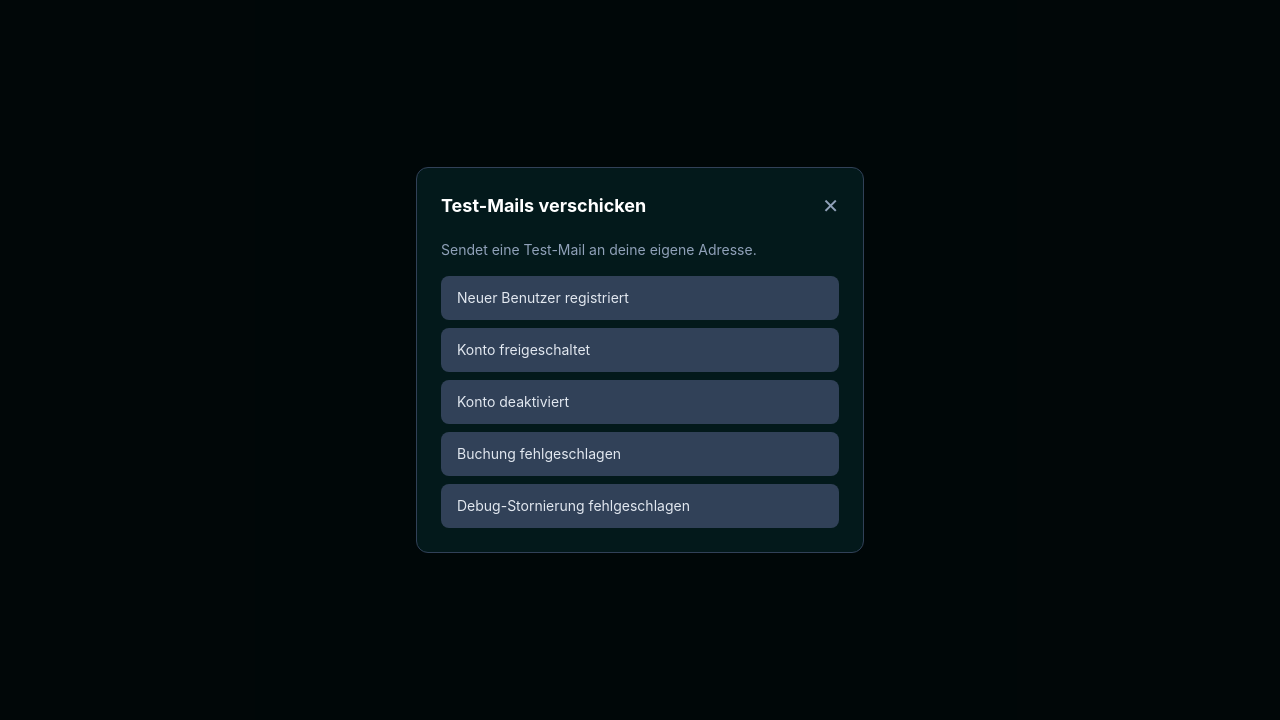
Test: TestEmailModal › shows success message after a successful send
Click the button "Neuer Benutzer registriert" at (543,298), box [441, 276, 839, 320]
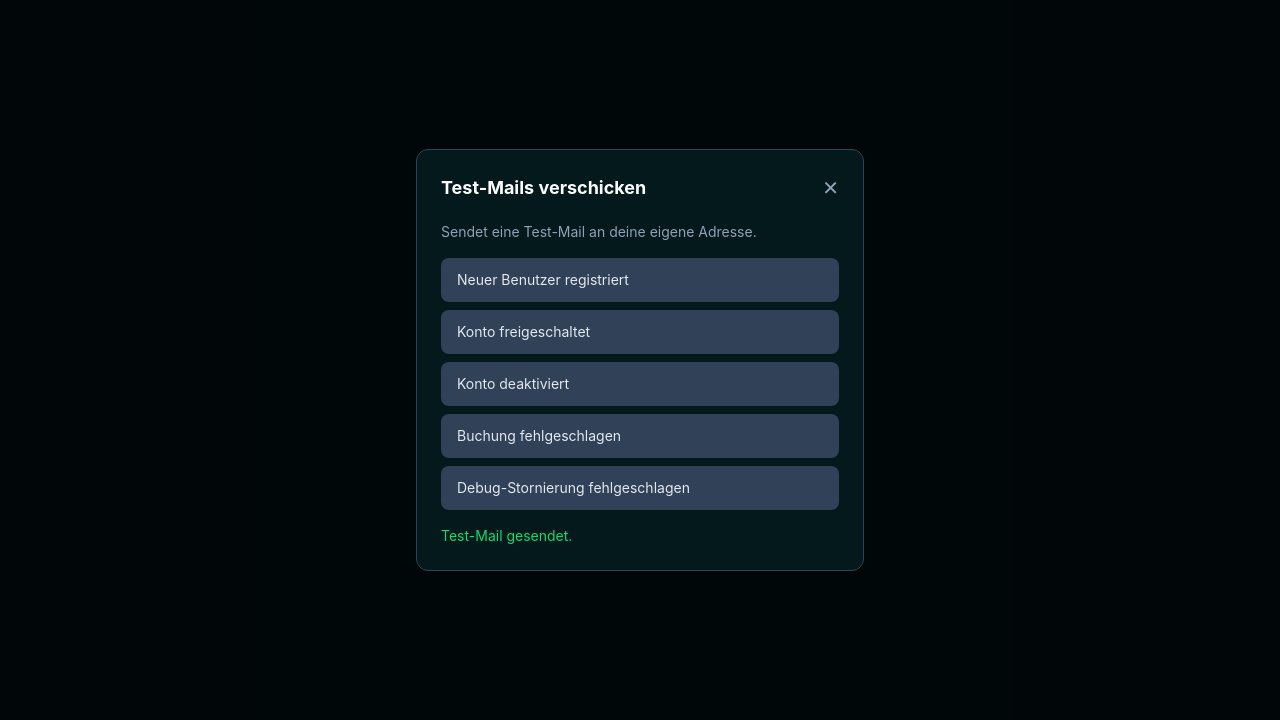
Now the text "Test-Mail gesendet." is shown, box [441, 527, 572, 544]
